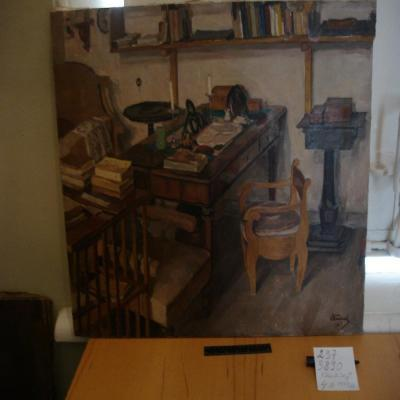painting: (50, 0, 377, 339)
